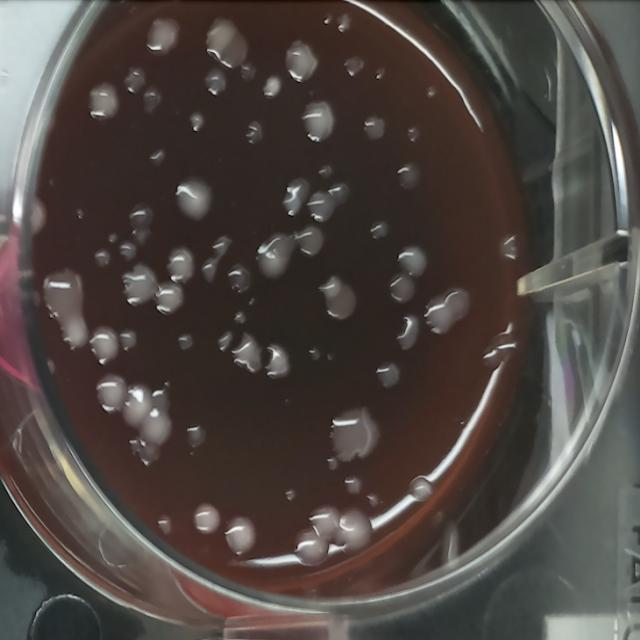Staphylococcus: (261, 74, 283, 98)
